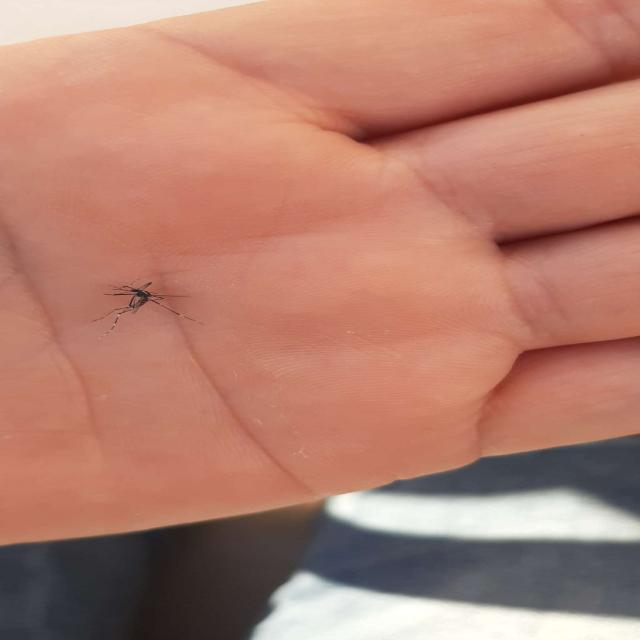albopictus: (83, 273, 208, 336)
